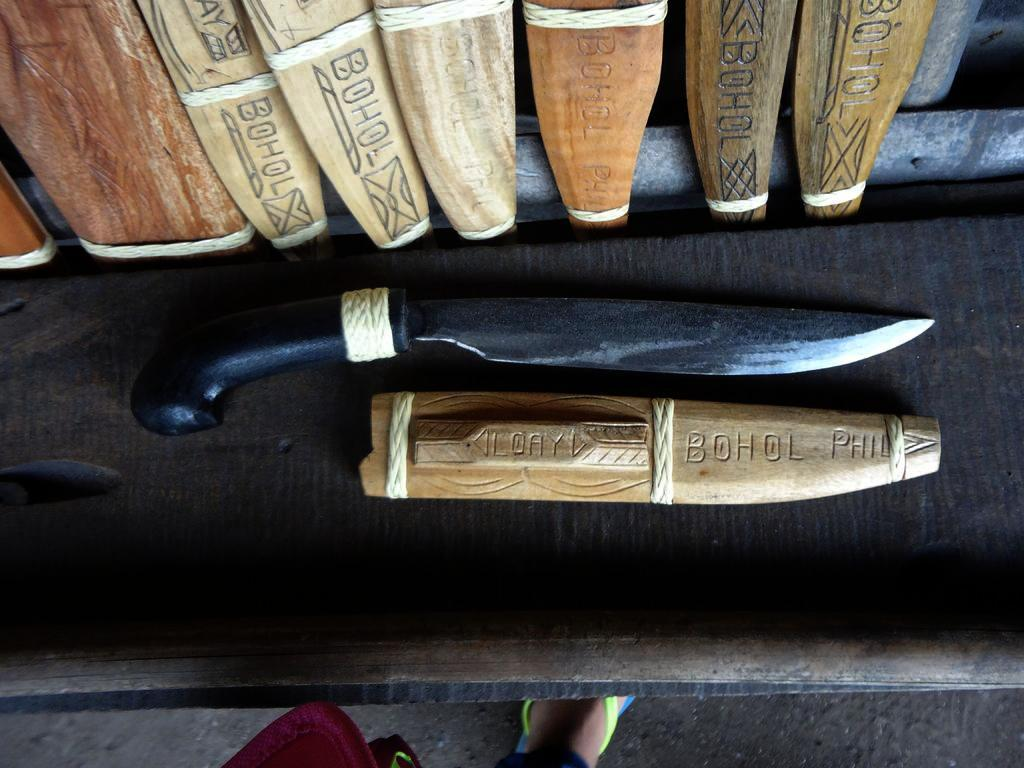melee: (128, 286, 939, 436)
